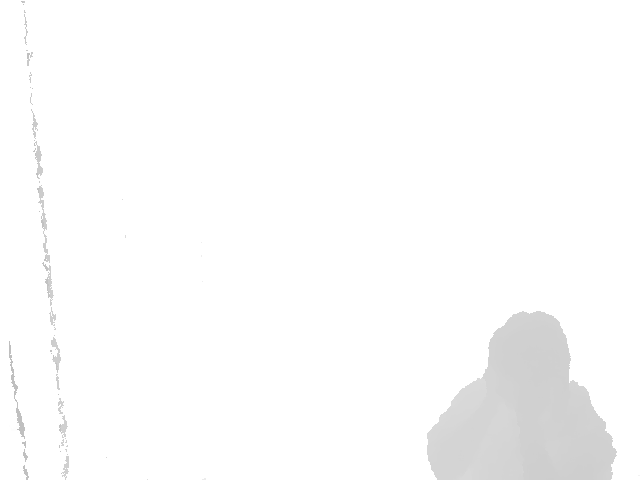head: (487, 309, 573, 421)
person: (426, 308, 619, 480)
